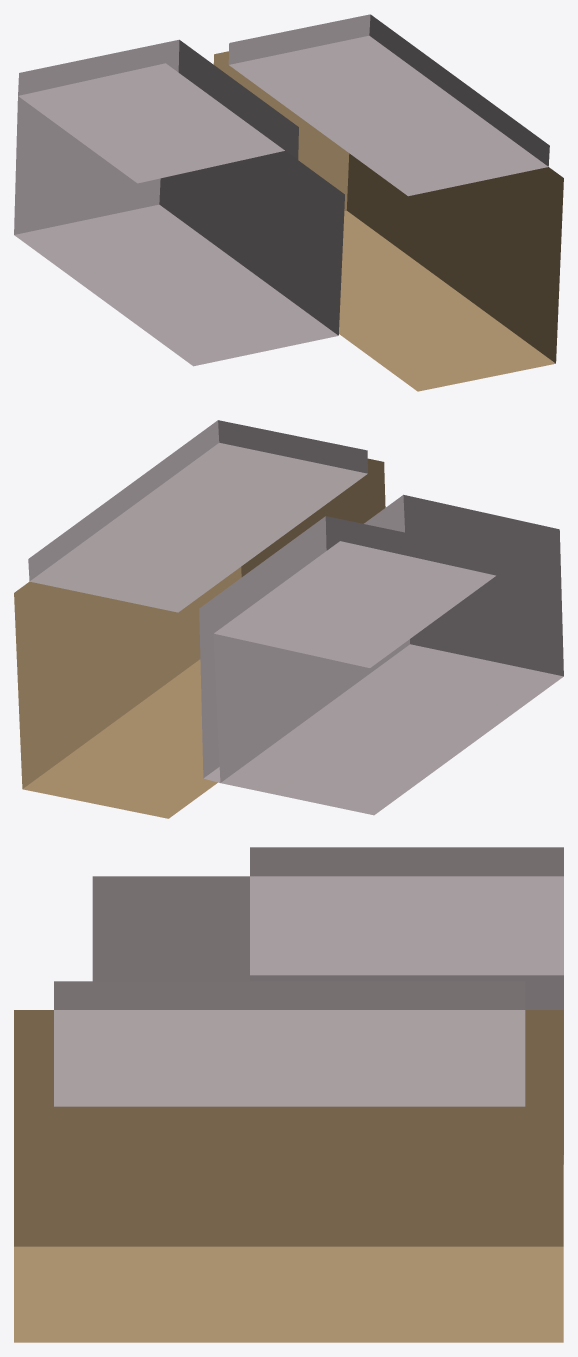
The picture shows the model from 3 angles, top to bottom: view 1: azimuth 30°, elevation 25°; view 2: azimuth 150°, elevation 25°; view 3: azimuth 270°, elevation 25°; orthographic projection. The views are drawn at different scales.
Parts seen in each view (by area): view 1: 0_2_1_3_0_0_3_1_2_1; view 2: 0_2_1_3_0_0_3_1_2_1; view 3: 0_2_1_3_0_0_3_1_2_1.
Boxes of the visible parts, x1=… form: 0_2_1_3_0_0_3_1_2_1: x1=14, y1=14, x2=563, y2=391; 0_2_1_3_0_0_3_1_2_1: x1=14, y1=420, x2=563, y2=818; 0_2_1_3_0_0_3_1_2_1: x1=14, y1=847, x2=563, y2=1342.
Size of the model in its own units: 19.8 by 12.04 by 21.01.
